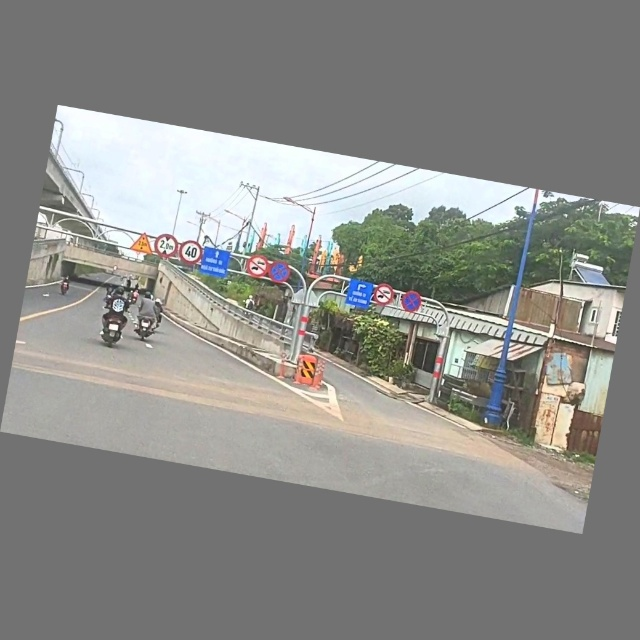P.107: (244, 253, 271, 279), (372, 282, 396, 308)
P.117*: (152, 232, 181, 261)
P.127*40: (178, 239, 205, 267)
P.130: (266, 259, 293, 286), (400, 289, 424, 316)
W.239b*: (127, 230, 156, 256)
